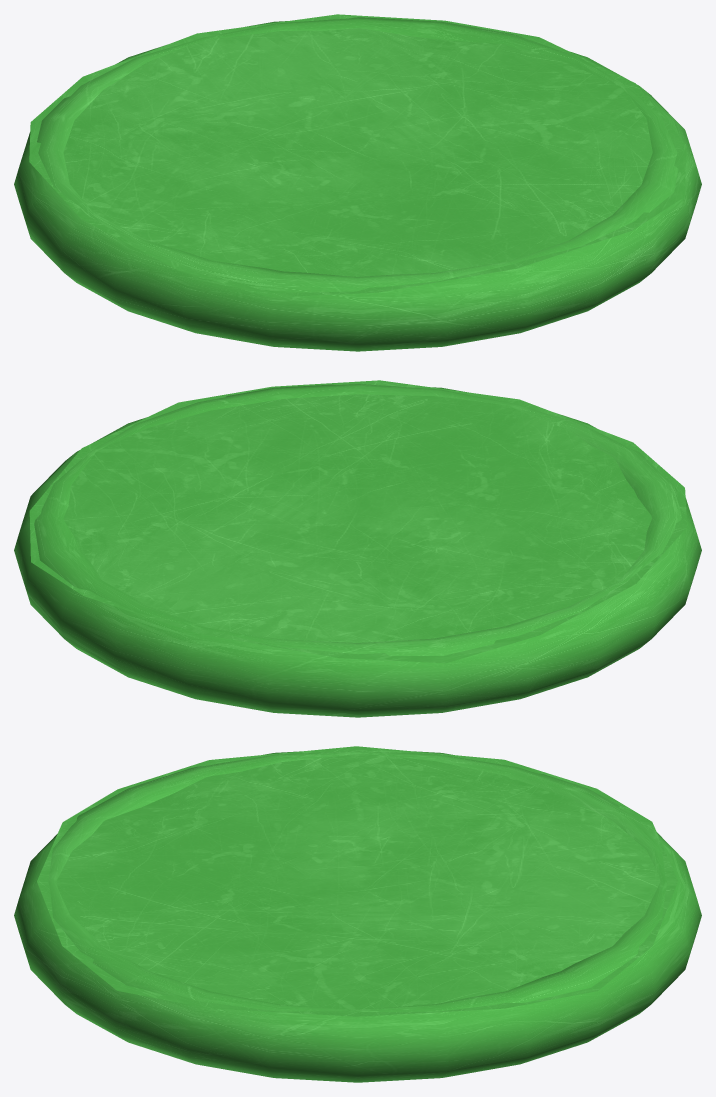
Rendered from JumpPad.fbx.
3 views of the same model, one above another, from view 1: azimuth 30°, elevation 25°; view 2: azimuth 150°, elevation 25°; view 3: azimuth 270°, elevation 25° (orthographic).
Parts seen in each view (by area): view 1: Plane001; view 2: Plane001; view 3: Plane001.
Part boxes in pixels (box(x1,y1,x2,y2)): Plane001: box(14, 14, 701, 351); Plane001: box(14, 380, 701, 717); Plane001: box(14, 746, 701, 1082).
Size of the model in its own units: 83.97 by 9.31 by 83.97.
Materials: 1 (1 with a texture image).
